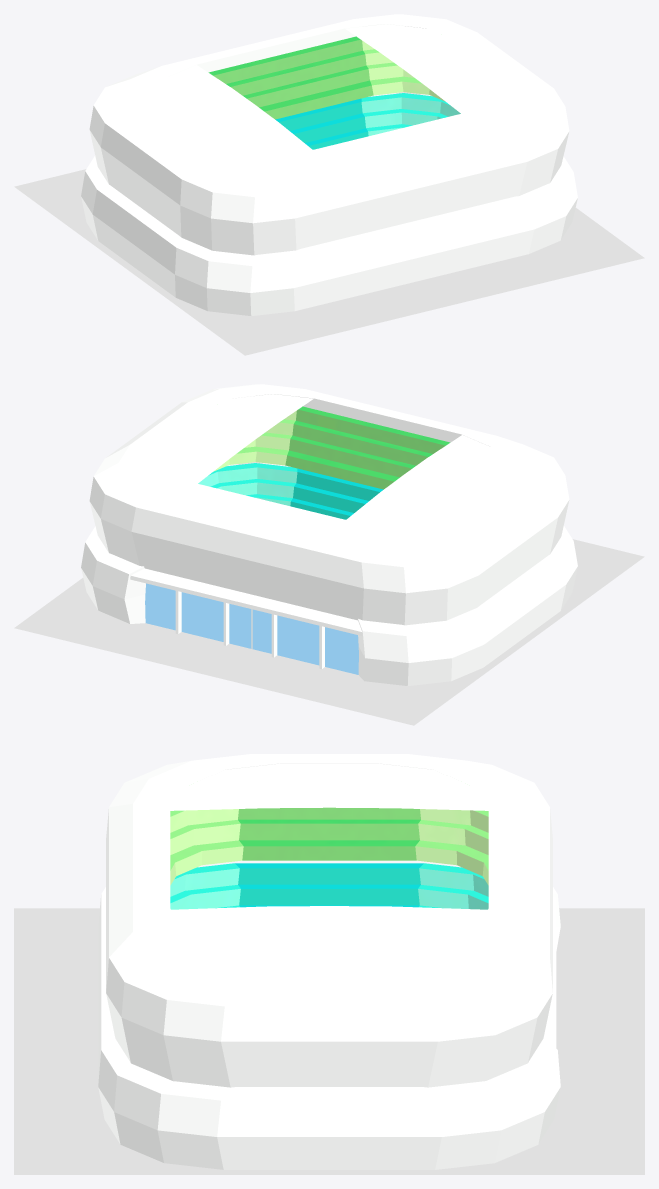
The model's file is stadiums.008.glb.
3 views of the same model, one above another, from view 1: azimuth 30°, elevation 25°; view 2: azimuth 150°, elevation 25°; view 3: azimuth 270°, elevation 25° (orthographic). The views are drawn at different scales.
Visible parts, largest first — view 1: stadiums.008(Clone); view 2: stadiums.008(Clone); view 3: stadiums.008(Clone).
Part boxes in pixels (x1,y1,x2,y2): stadiums.008(Clone): [14, 14, 644, 355]; stadiums.008(Clone): [14, 384, 644, 725]; stadiums.008(Clone): [14, 754, 644, 1174].
Bounding box in the file's own units: 16 × 5.36 × 16.
1 material, 1 textured.
